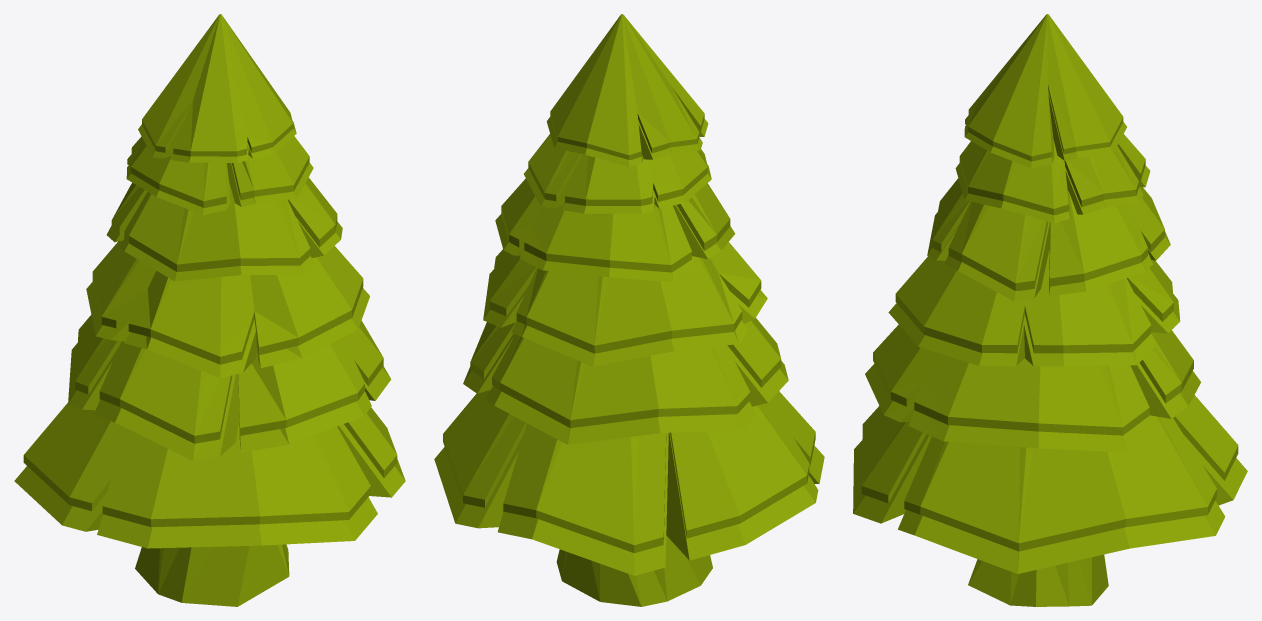
File: tree1.fbx
3 views of the same model, side by side, from view 1: azimuth 30°, elevation 25°; view 2: azimuth 150°, elevation 25°; view 3: azimuth 270°, elevation 25° (orthographic). The views are drawn at different scales.
Parts seen in each view (by area): view 1: choinkasnieg_dxf1, Group1; view 2: choinkasnieg_dxf1, Group1; view 3: choinkasnieg_dxf1, Group1.
Part boxes in pixels (x1,y1,x2,y2): choinkasnieg_dxf1: (14, 14, 405, 548); Group1: (135, 544, 289, 606); choinkasnieg_dxf1: (434, 14, 824, 575); Group1: (556, 536, 712, 606); choinkasnieg_dxf1: (853, 14, 1247, 573); Group1: (968, 554, 1108, 606).
Size of the model in its own units: 4 by 6.43 by 3.97.
